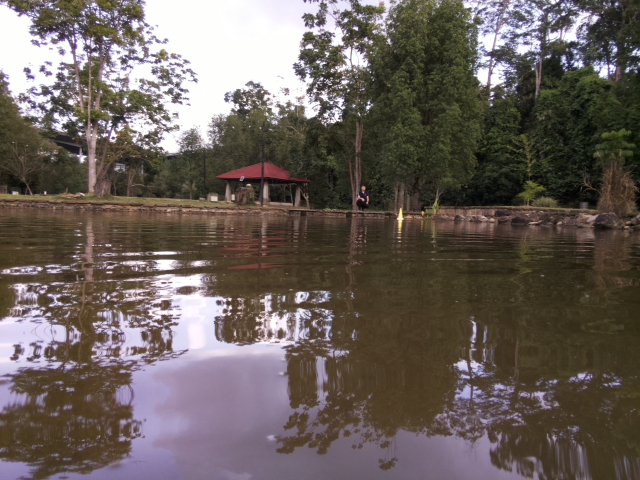checkpoint: (395, 206, 406, 221)
